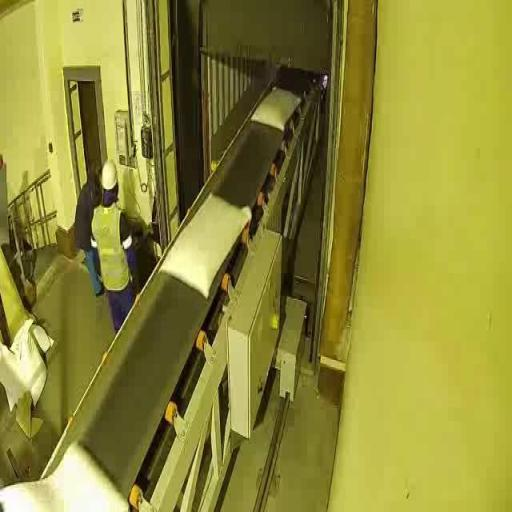c-belt-sack-count: (162, 195, 250, 297), (0, 444, 128, 511), (252, 87, 300, 131)
